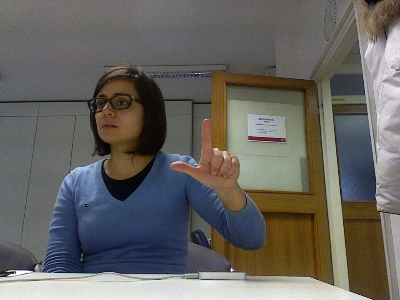枪: (169, 117, 240, 189)
